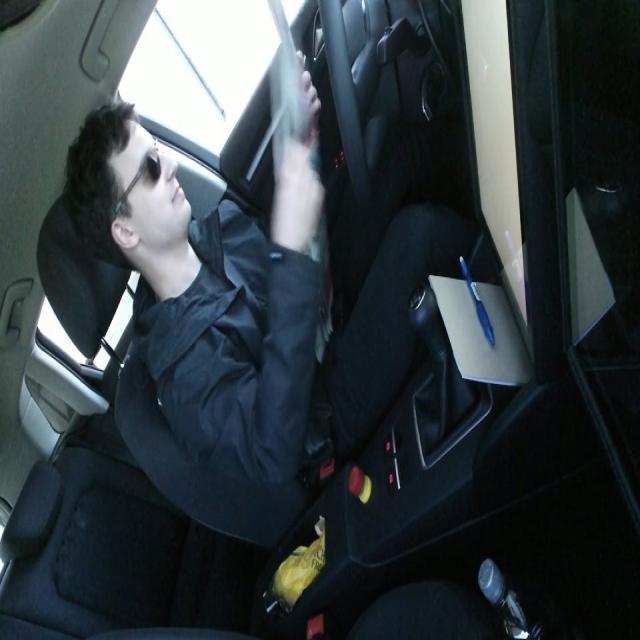pen: (458, 252, 496, 348)
